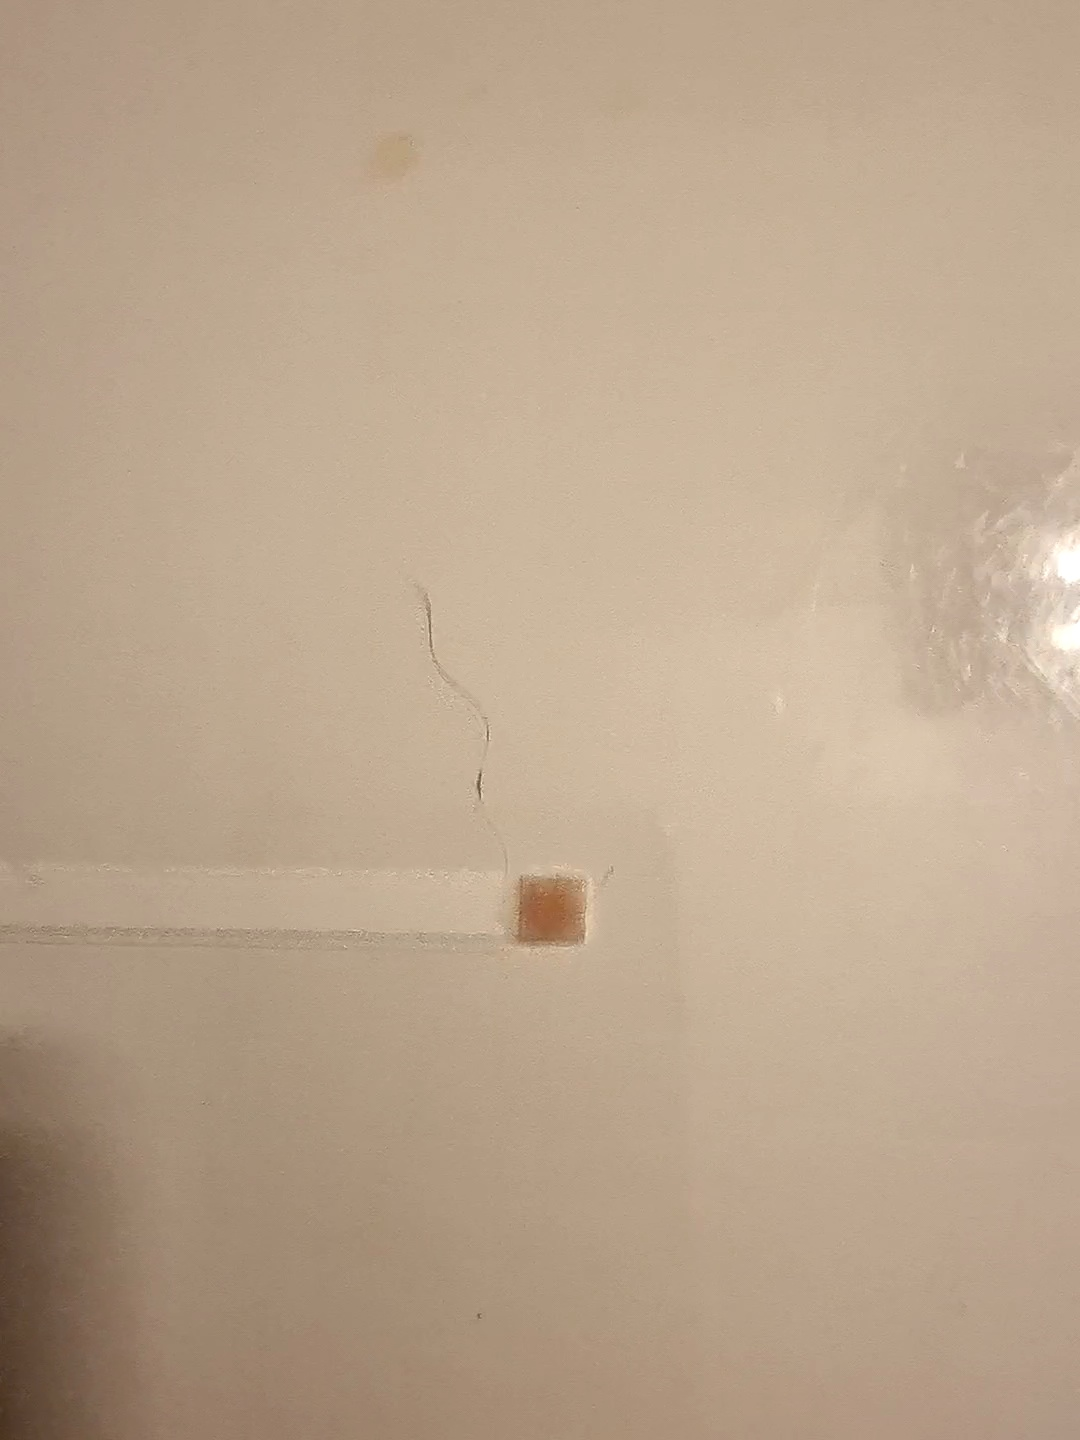keto-tip: (508, 861, 594, 952)
